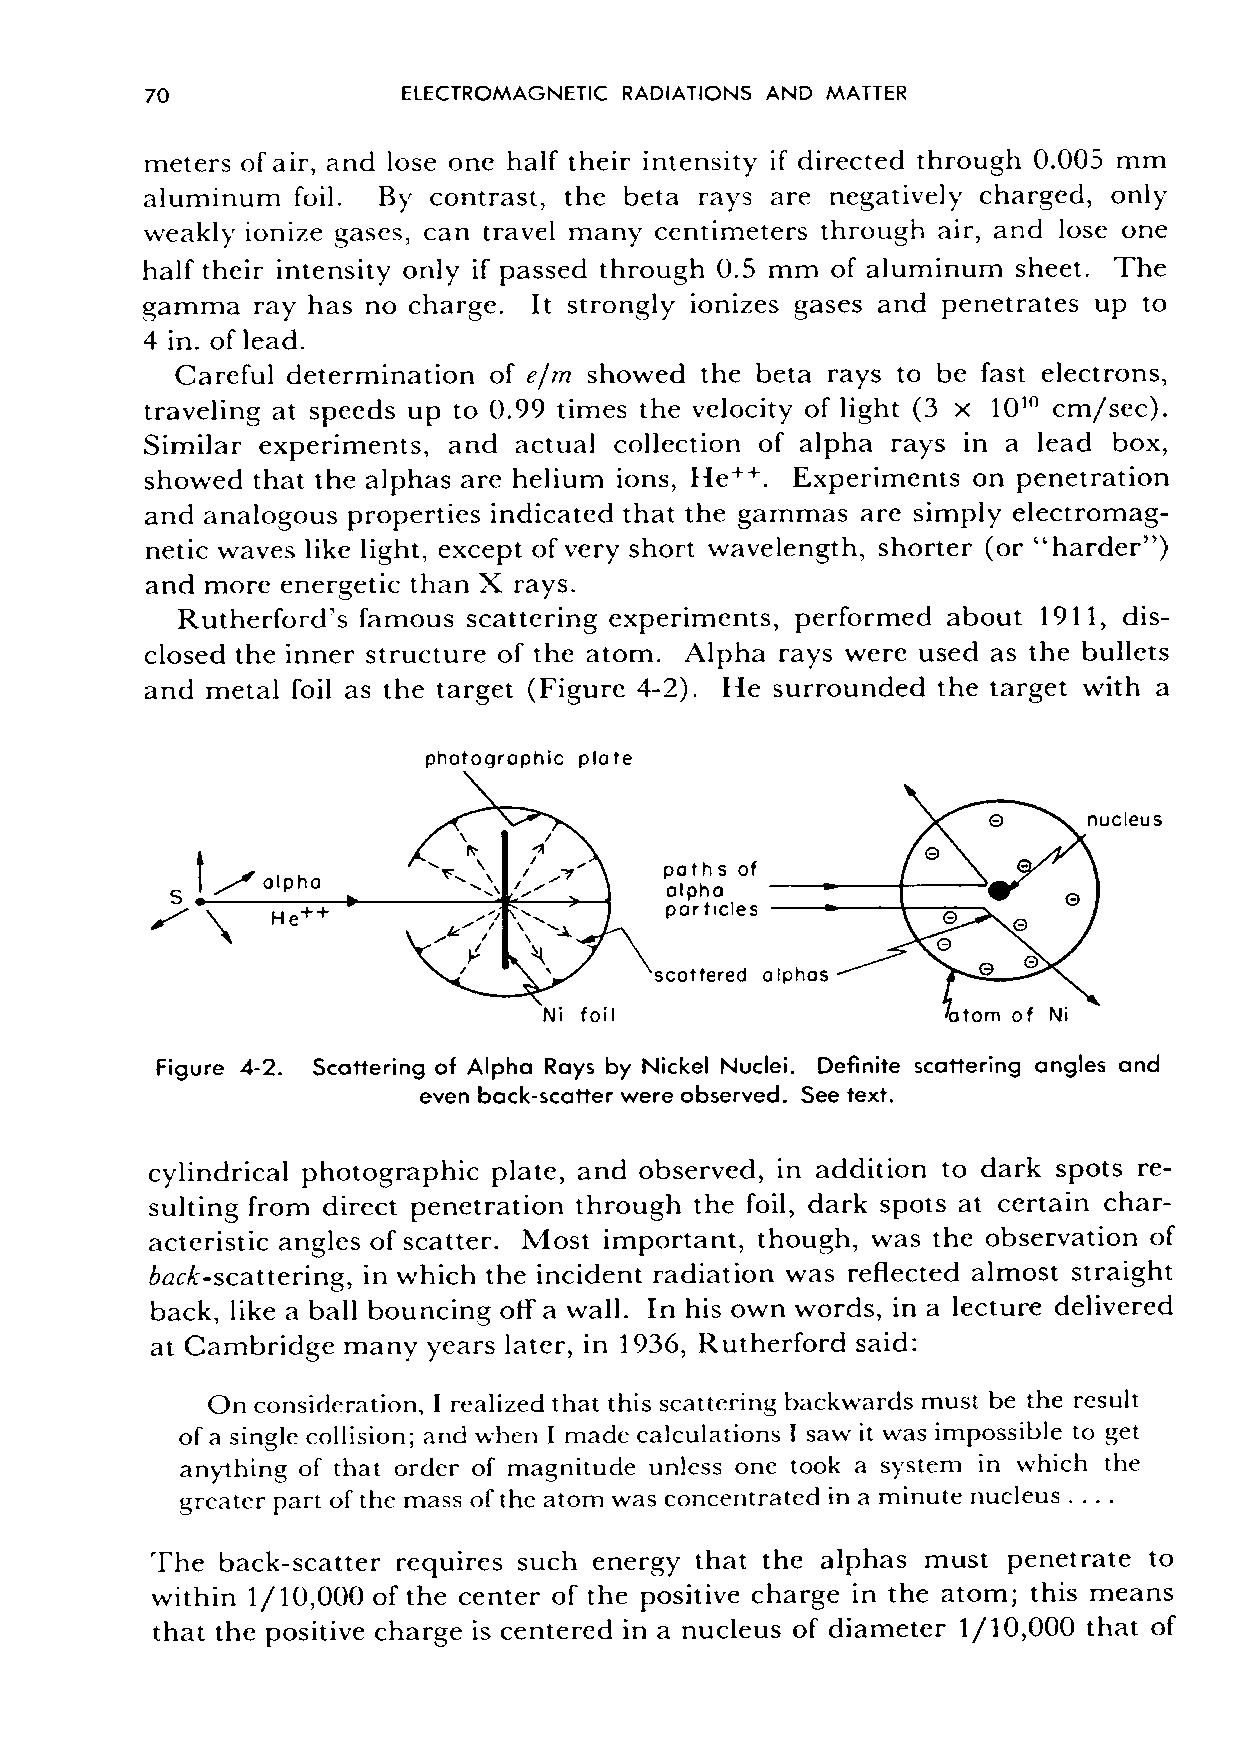content: (138, 144, 1180, 1648)
content_chapter: (392, 79, 911, 102)
content_pagenumber: (141, 86, 170, 103)
